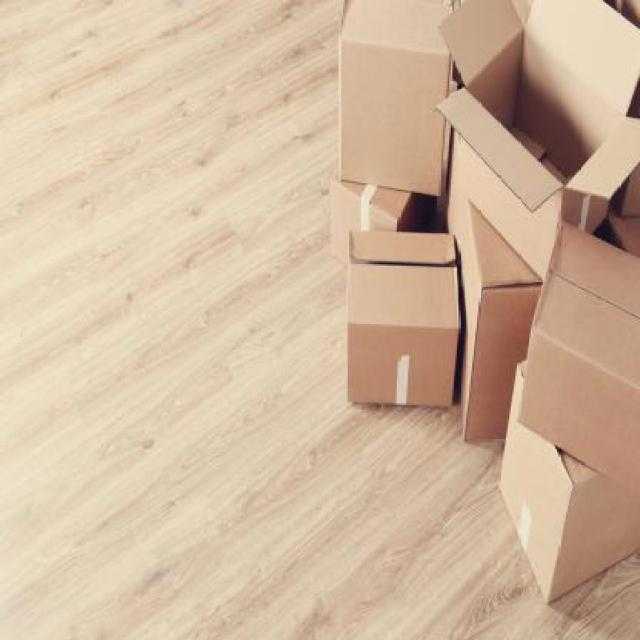box: (440, 0, 639, 288), (498, 360, 639, 620), (520, 220, 640, 467), (338, 0, 457, 198), (344, 224, 459, 426)
